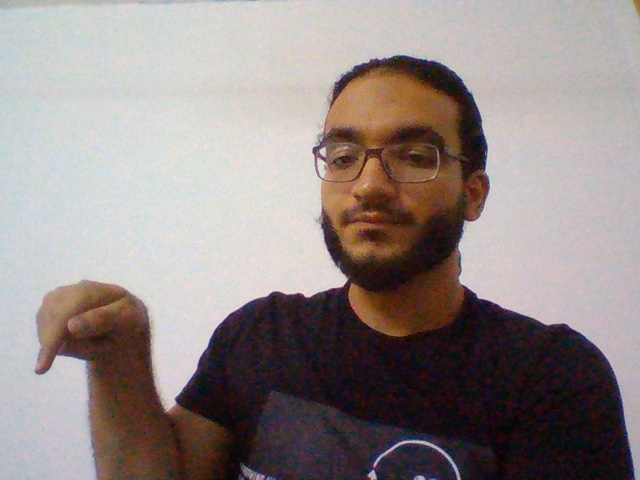Yes: (25, 259, 170, 374)
